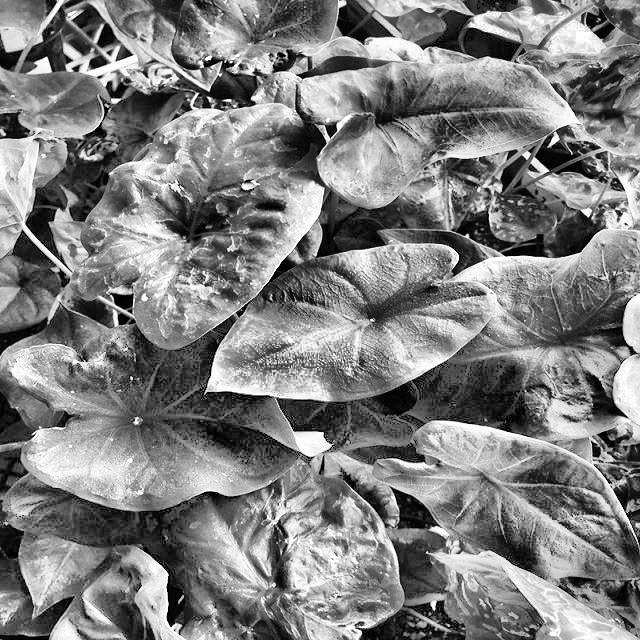plants: (22, 32, 639, 639)
